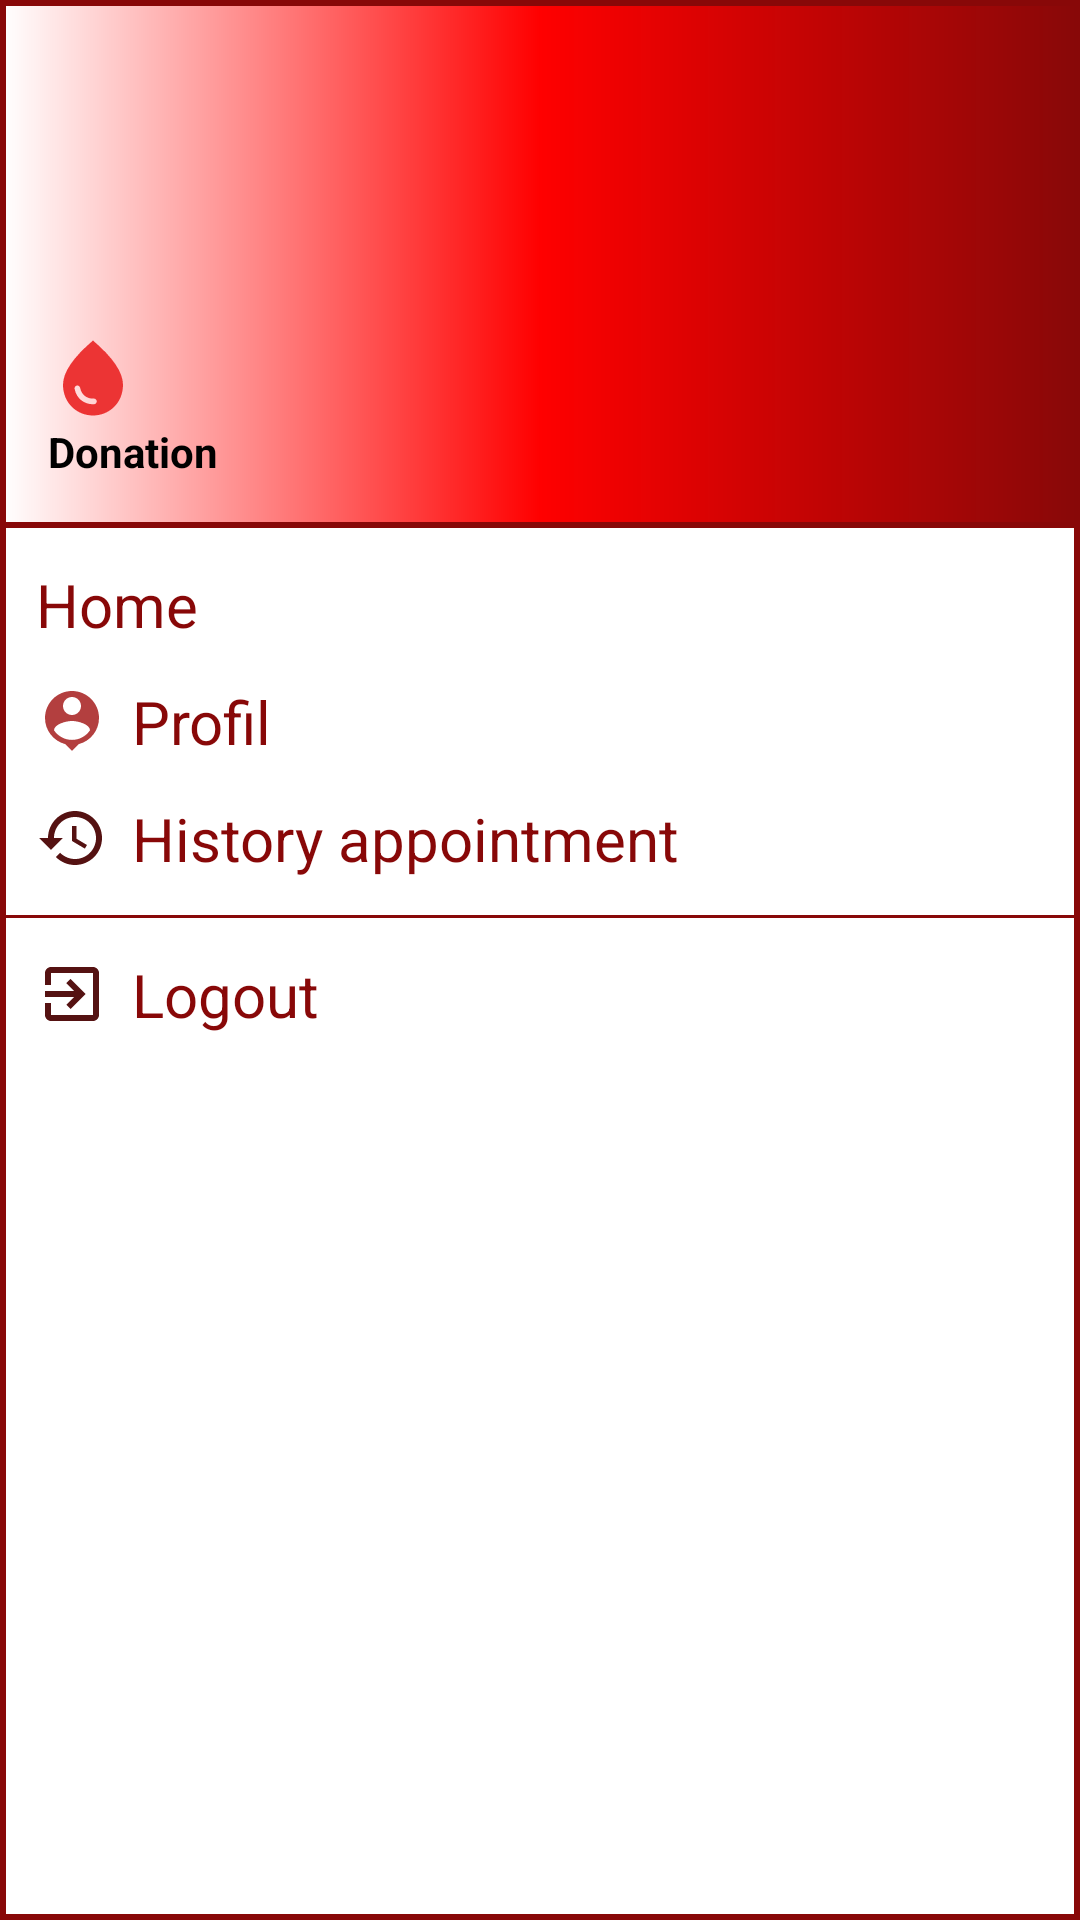

Icon click points for this 1080×1920 phone screenshot, format (x,y):
water drop: (93,378)
